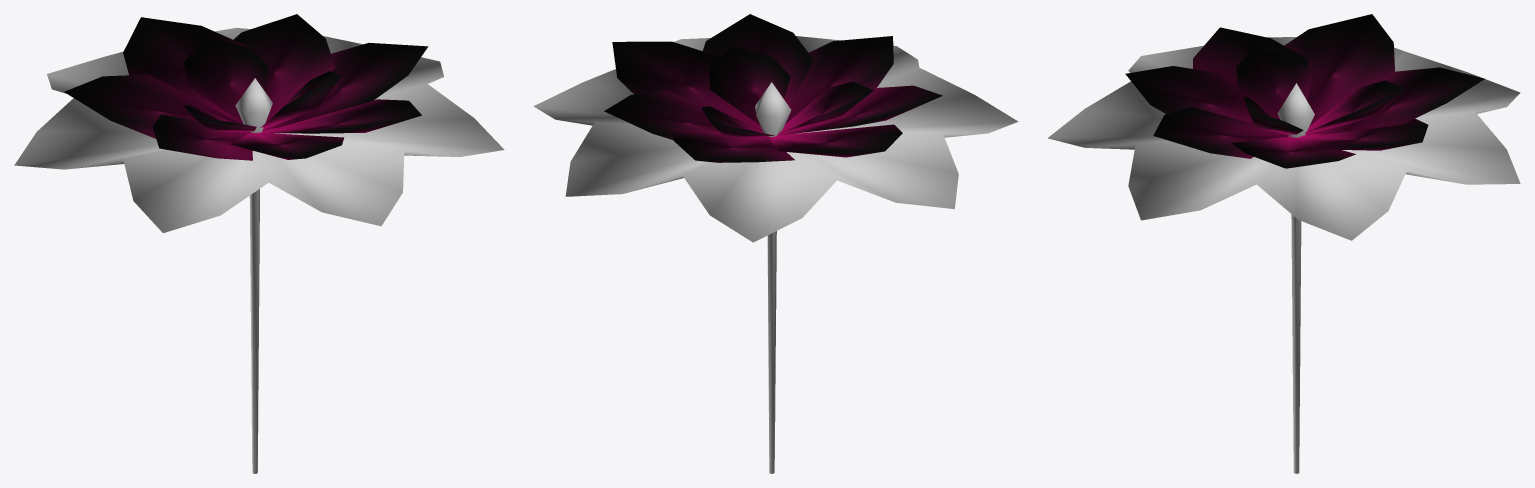
File: TFF_Glowing_Lilly_01C.fbx
3 renders of one model, left to right at view 1: azimuth 30°, elevation 25°; view 2: azimuth 150°, elevation 25°; view 3: azimuth 270°, elevation 25°, orthographic.
Visible parts, largest first — view 1: TFF_Glowing_Lilly_01C; view 2: TFF_Glowing_Lilly_01C; view 3: TFF_Glowing_Lilly_01C.
Part boxes in pixels (<box>): TFF_Glowing_Lilly_01C: <box>14,14,504,473</box>; TFF_Glowing_Lilly_01C: <box>533,14,1018,473</box>; TFF_Glowing_Lilly_01C: <box>1047,14,1520,473</box>.
Bounding box in the file's own units: 0.6635 × 0.5942 × 0.6469.
